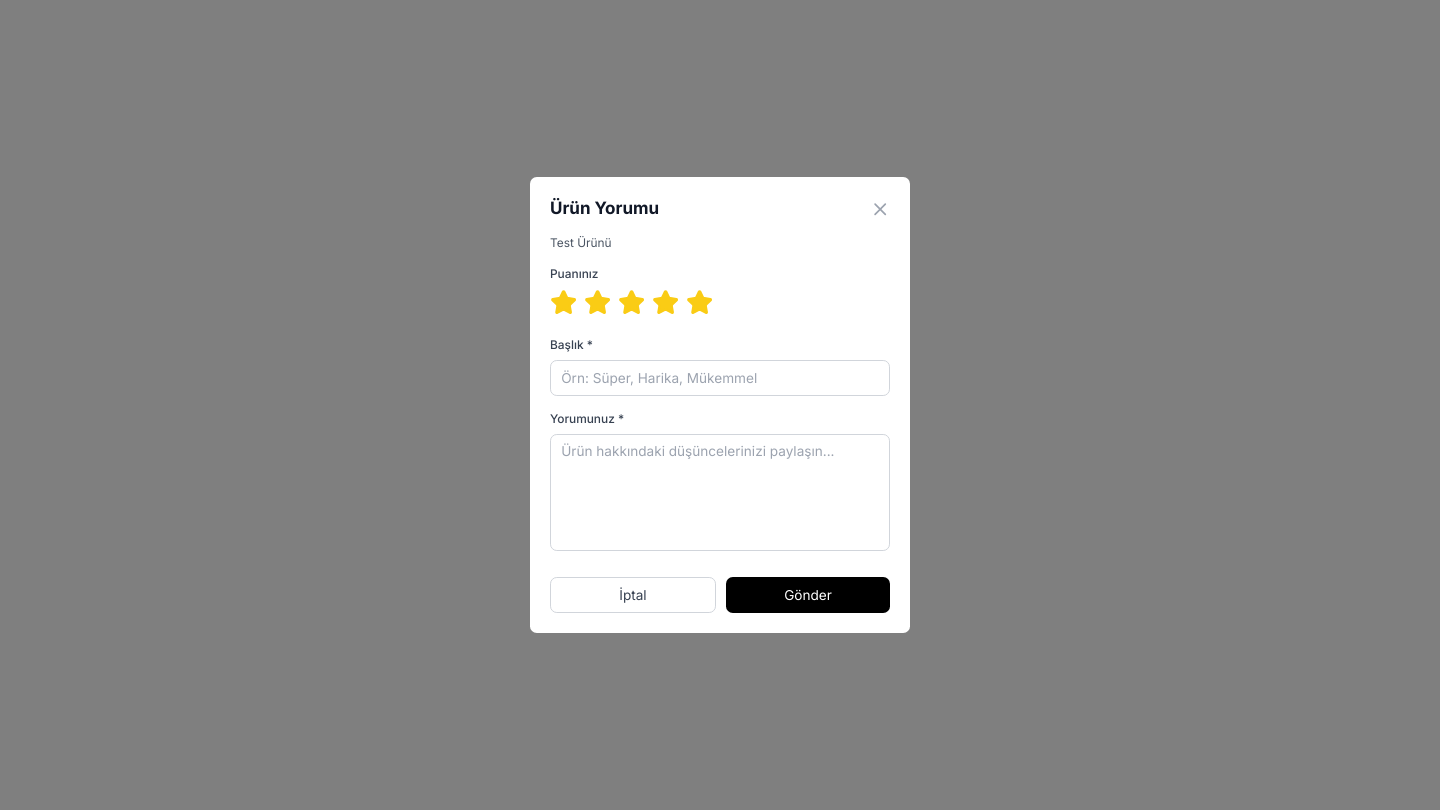
Test: ReviewModal Bileşeni › Yorum alanı boş bırakıldığında hata vermelidir
Click the 6th button: (700, 302) 686,289 -> 713,316
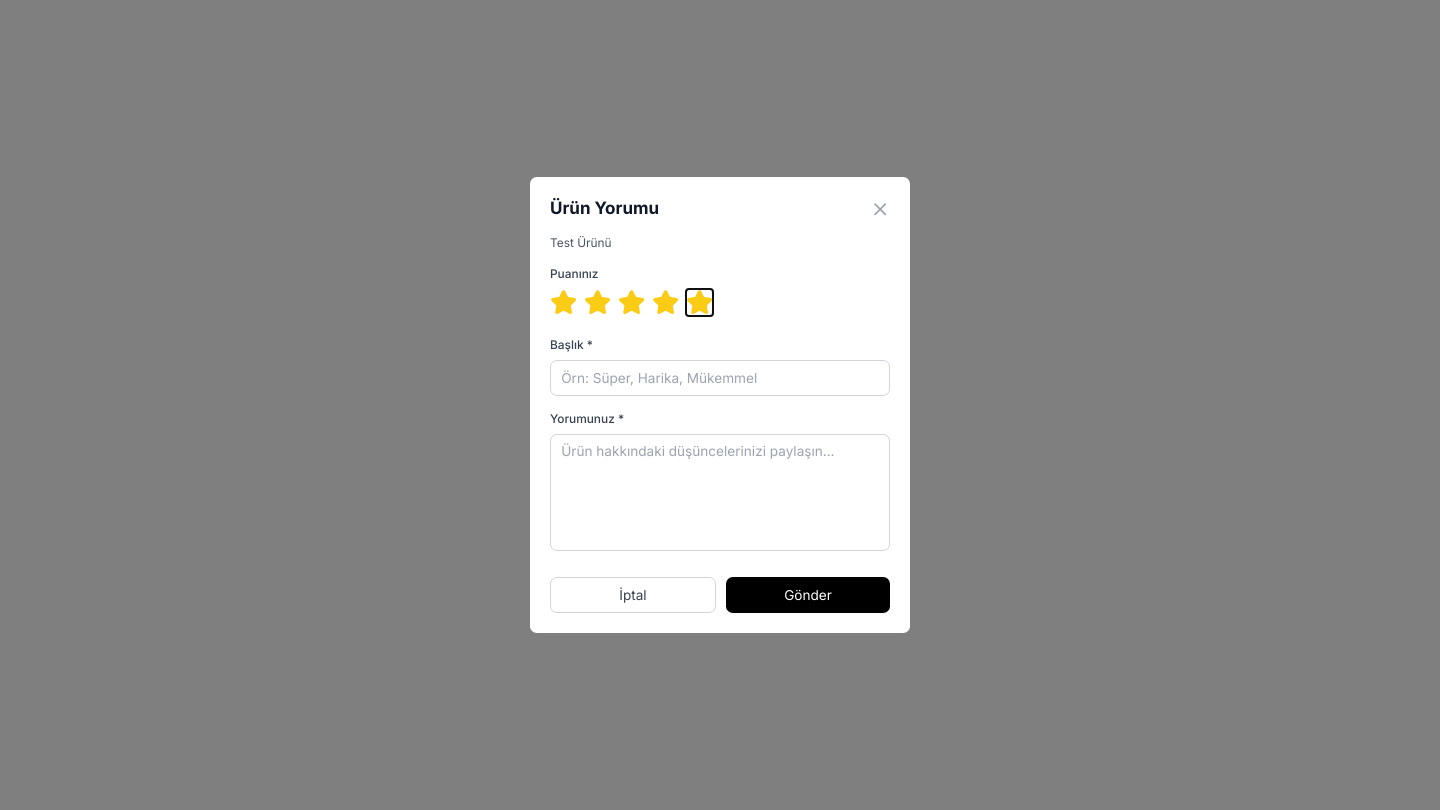
Submit the form with placeholder "Örn: Süper, Harika", box 550,265 -> 890,613
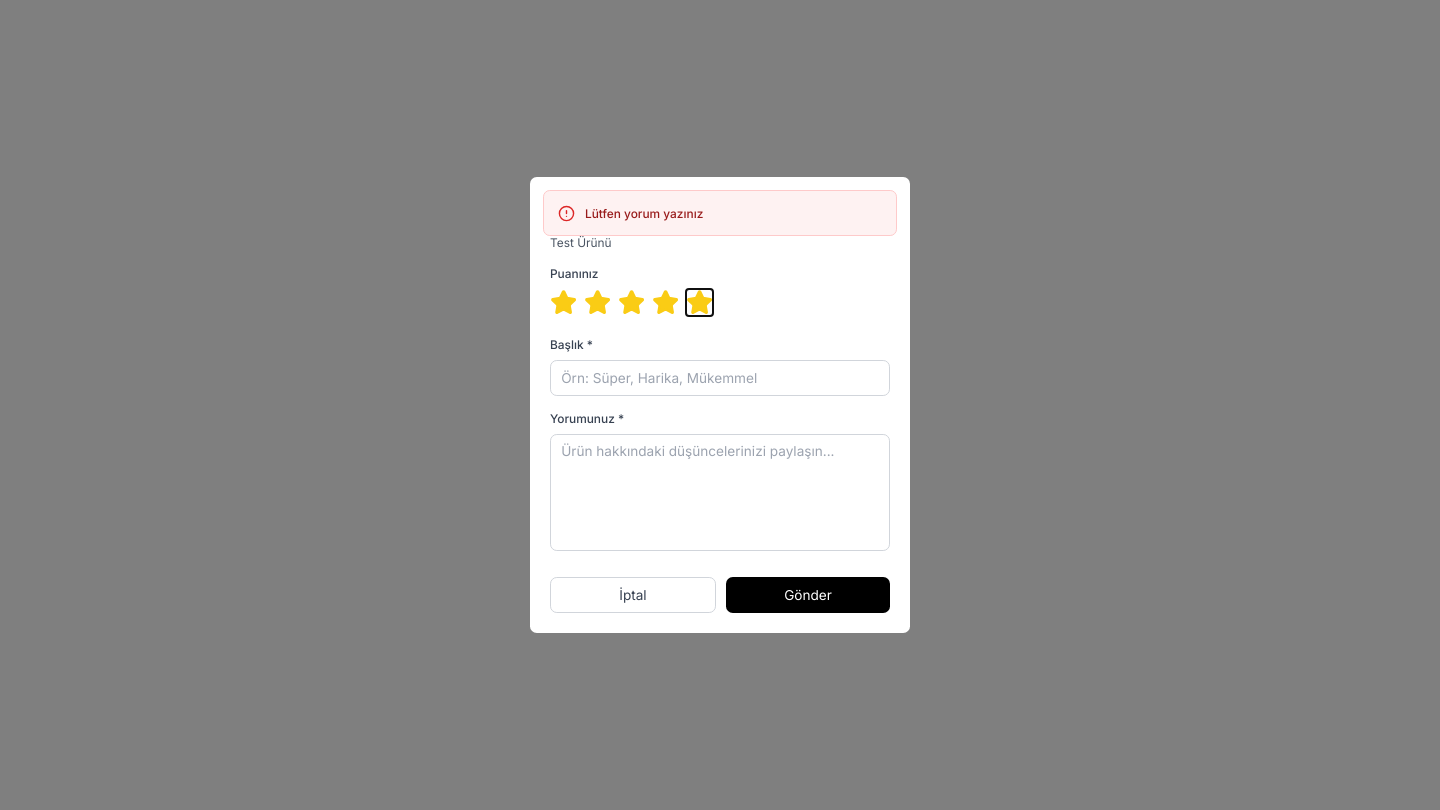
Expected: the text "Lütfen yorum yazınız" is shown, 585,205 -> 703,222
